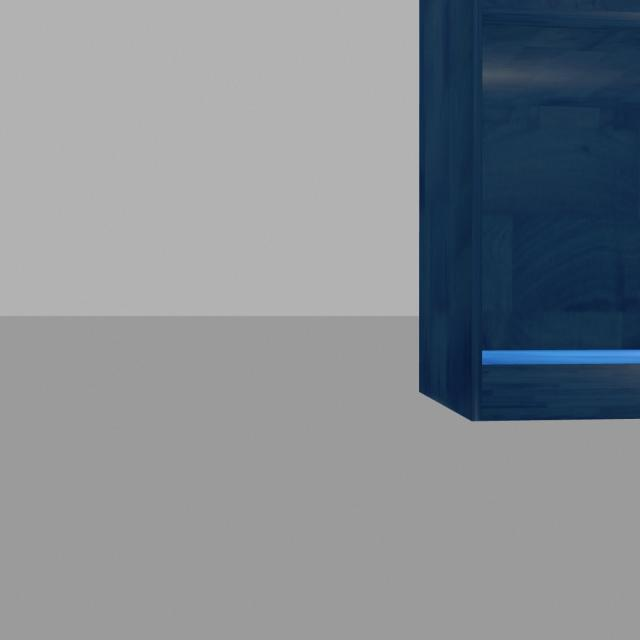shelf: (411, 0, 640, 446)
